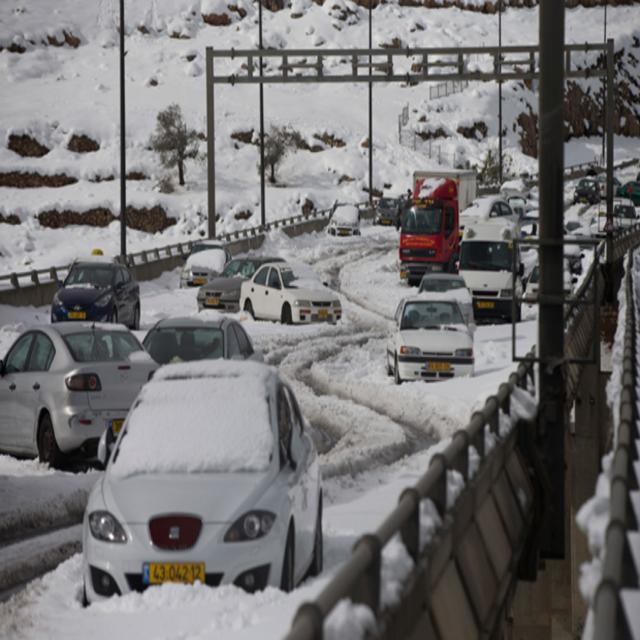bus: (399, 180, 465, 288)
car: (78, 362, 332, 599), (0, 320, 159, 470), (386, 296, 476, 385), (229, 256, 341, 326), (142, 313, 261, 372), (51, 257, 141, 329), (458, 231, 522, 323), (199, 252, 279, 312), (467, 193, 521, 234), (181, 244, 229, 288), (329, 203, 361, 237), (373, 194, 401, 228), (574, 178, 600, 203)
